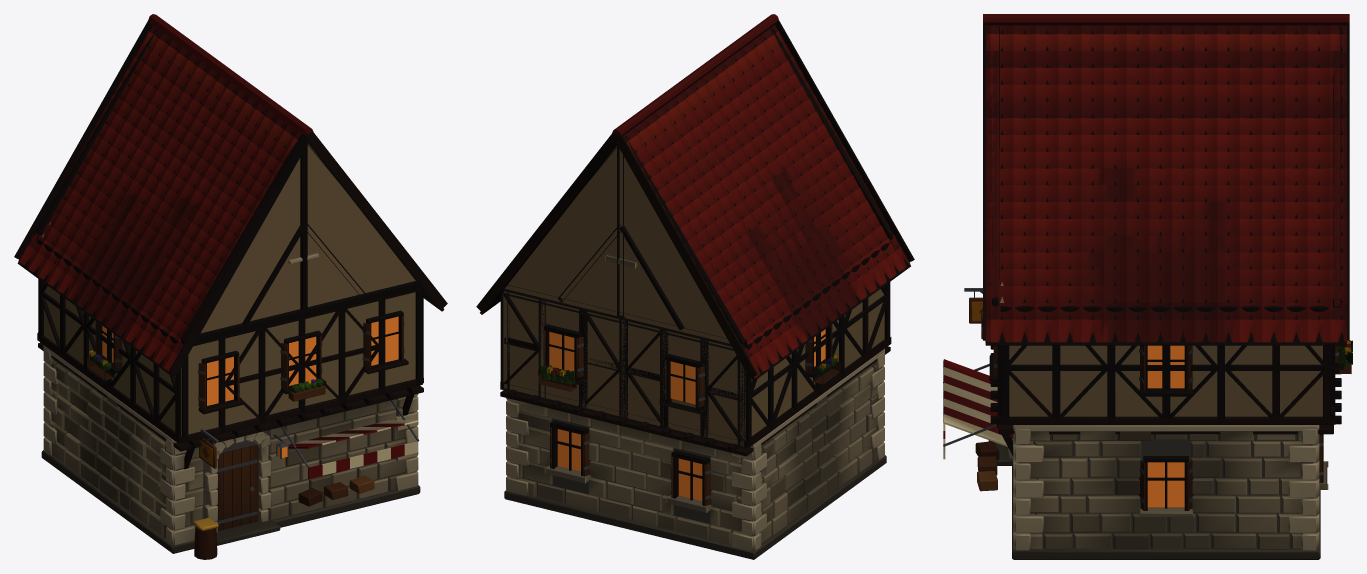
The model's file is Loja4.fbx.
3 renders of one model, left to right at view 1: azimuth 30°, elevation 25°; view 2: azimuth 150°, elevation 25°; view 3: azimuth 270°, elevation 25°, orthographic. The views are drawn at different scales.
Parts seen in each view (by area): view 1: Loja4; view 2: Loja4; view 3: Loja4.
Boxes of the visible parts, x1=… form: Loja4: x1=14, y1=14, x2=447, y2=559; Loja4: x1=476, y1=14, x2=914, y2=559; Loja4: x1=943, y1=14, x2=1352, y2=559.
Size of the model in its own units: 8.1 by 11.3 by 8.83.
